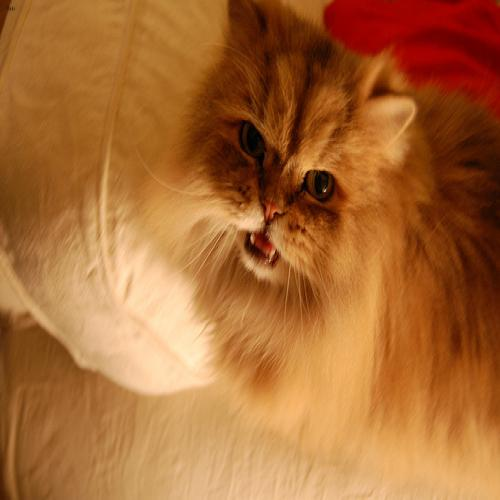persian: (188, 1, 423, 328)
